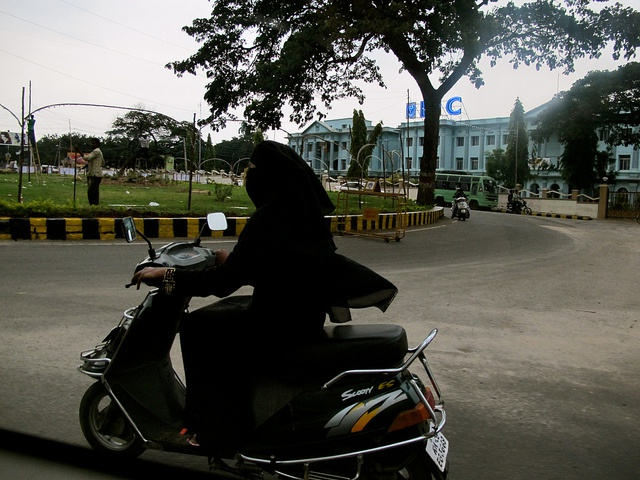non-vehicle: (79, 289, 452, 473), (451, 192, 469, 222), (505, 195, 531, 215)
